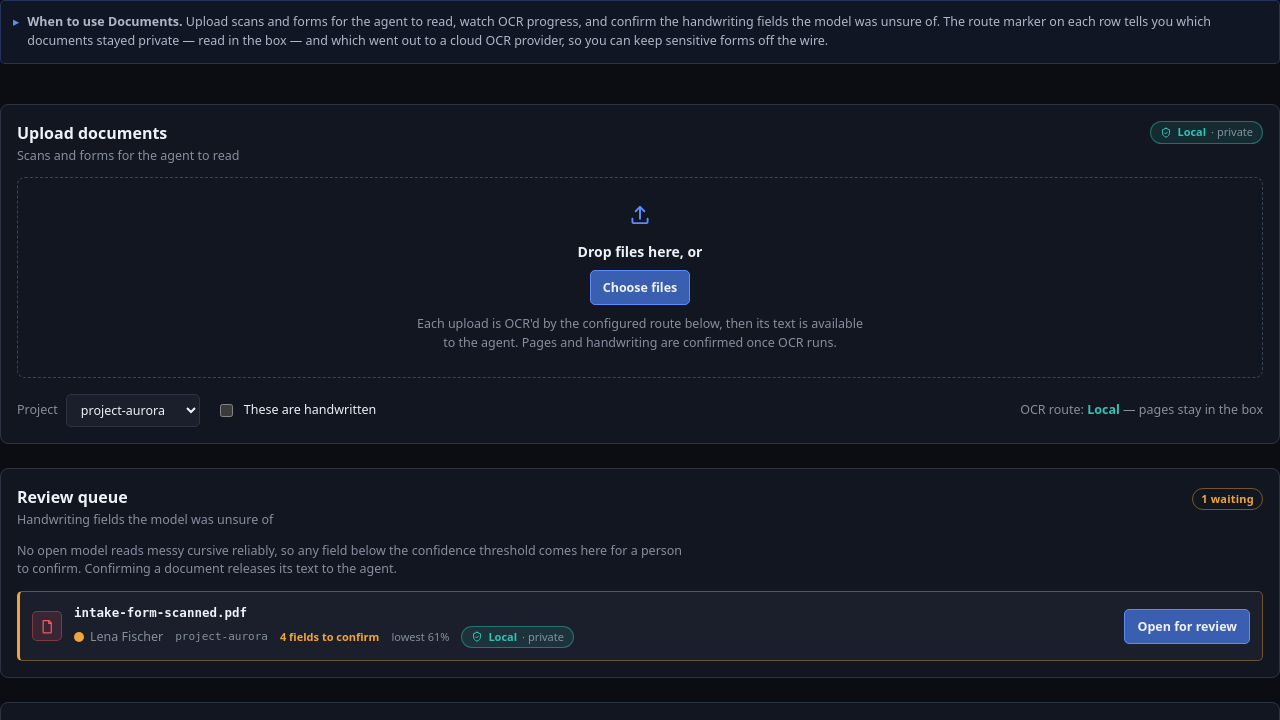
Test case: DocumentsTab — review queue › lists the review doc and opening it reveals the inline note
Expected: the text "1 waiting" is shown, [1192, 488, 1263, 510]
Expected: the text "intake-form-scanned.pdf" is shown, [74, 605, 247, 620]
Click the button "Open for review": (1187, 626) [1124, 609, 1250, 644]
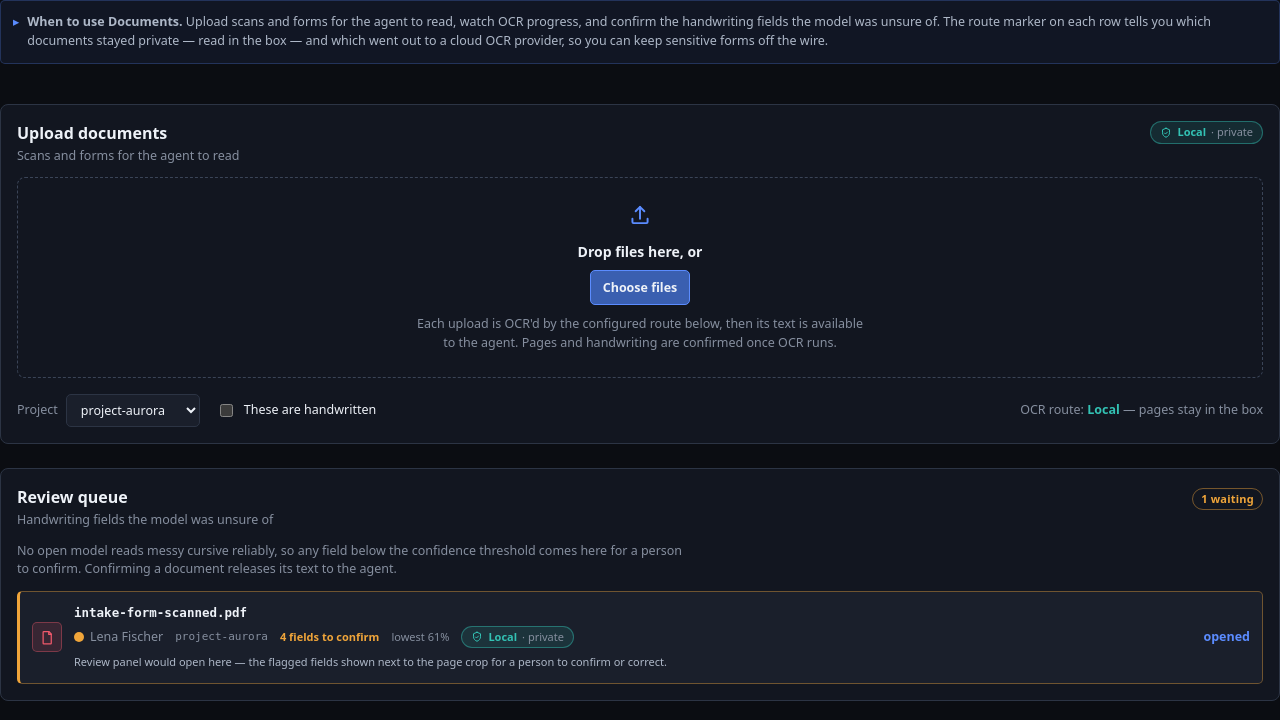
Expected: the button "Open for review" is gone
Expected: the text "opened" is shown, [1203, 628, 1250, 647]
Expected: the text "Review panel would open here" is shown, [74, 654, 667, 669]
